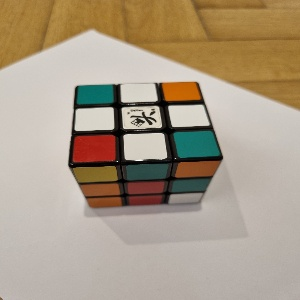cube: (67, 81, 224, 209)
